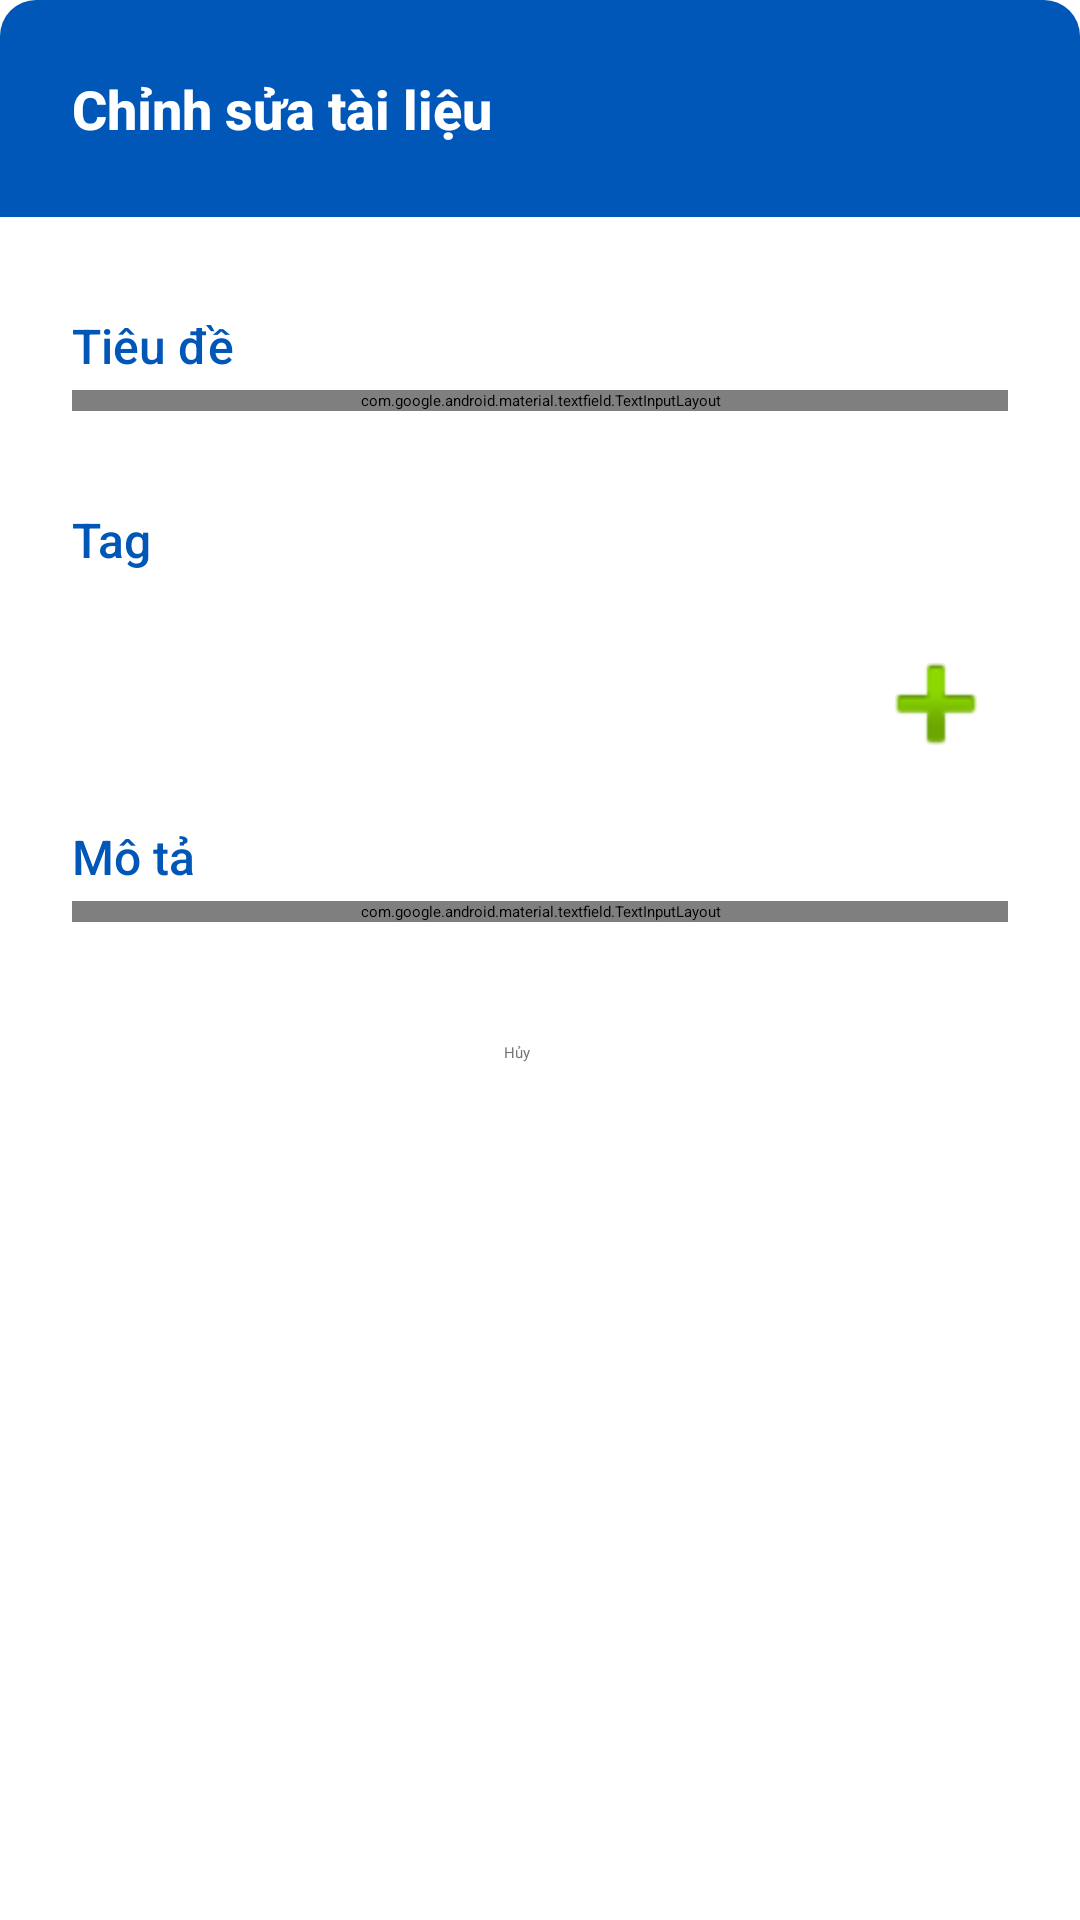

Point at icon controls on the screen. Image size 1080w x 1920h, points as (x=x, y=y).
Thêm tag: (x=936, y=704)
